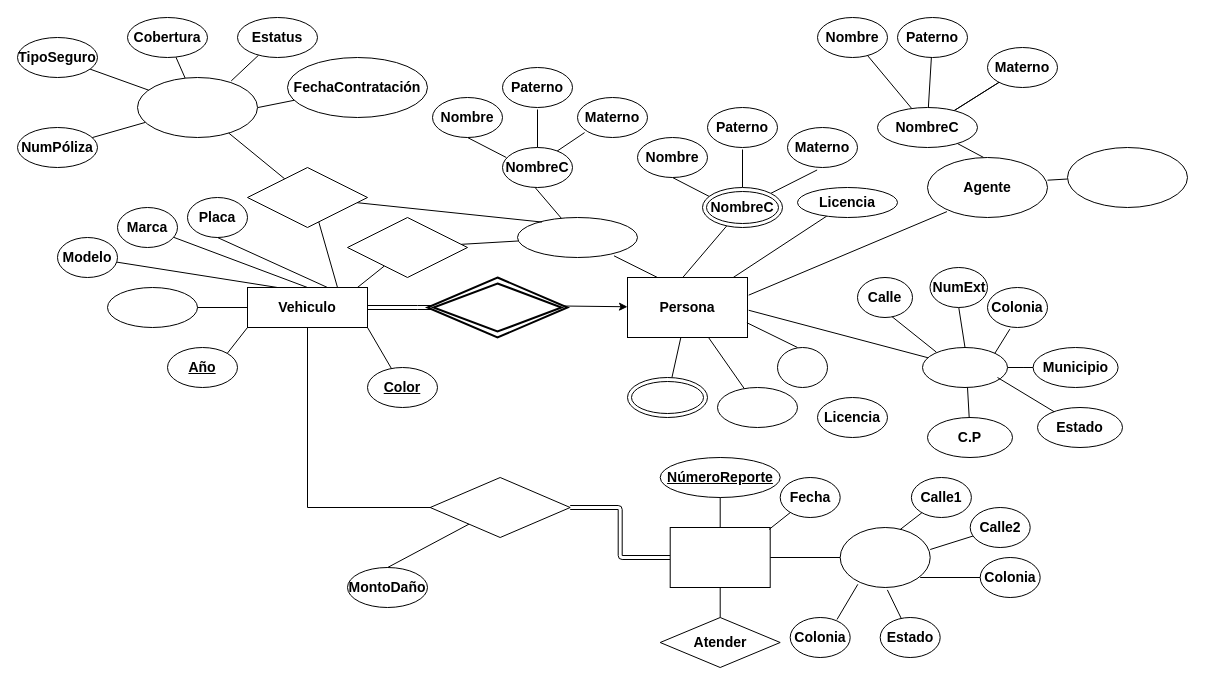
Some shapes in this 1205 by 685 pixel diagram are drawn without their labels. The box of each missing label's shape, as (x1, y1, x2, y2) in pixels:
Accidente: (669, 526, 770, 588)
Adueñar: (346, 216, 468, 278)
Asignar: (246, 166, 368, 228)
Dirección: (922, 346, 1008, 388)
DueñoVehiculo: (516, 216, 638, 258)
Manejar: (426, 276, 568, 338)
Nacimiento: (716, 386, 798, 428)
NumAgente: (1066, 146, 1188, 208)
NumMotor: (106, 286, 198, 328)
Participar: (429, 476, 570, 538)
Póliza: (136, 76, 258, 138)
Sexo: (776, 346, 828, 388)
Teléfono: (626, 376, 708, 418)
Ubicación: (839, 526, 930, 588)
